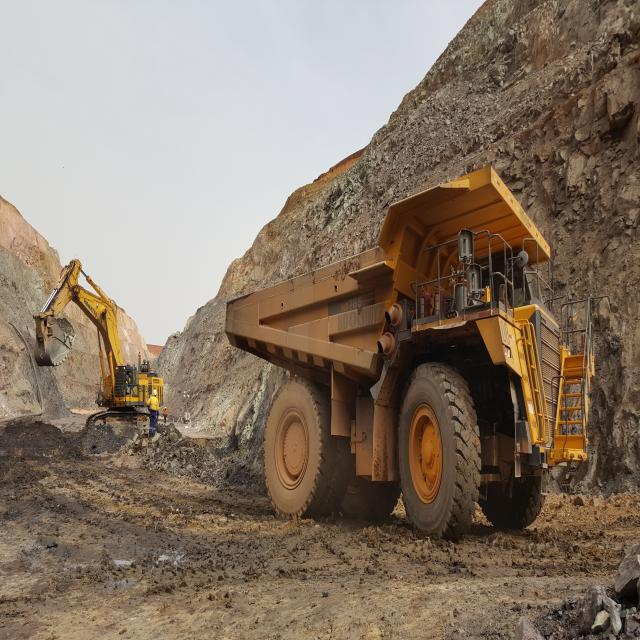dump_truck: (222, 158, 604, 569)
excavator: (21, 238, 174, 451)
